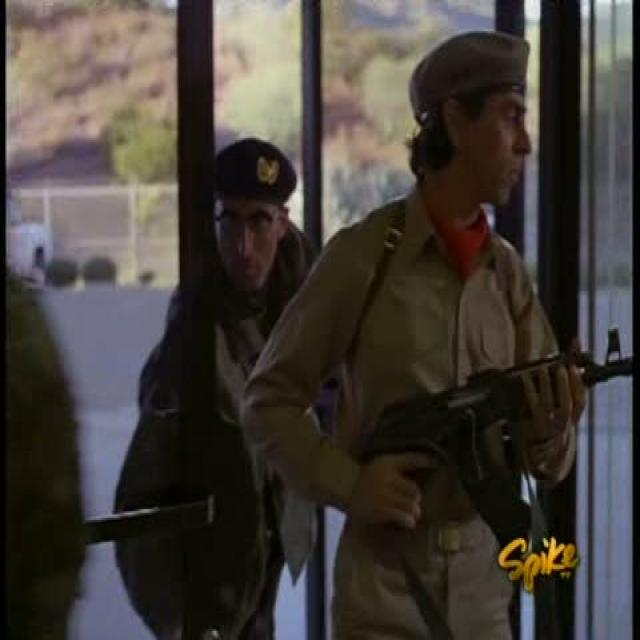rifle: (376, 323, 639, 550)
